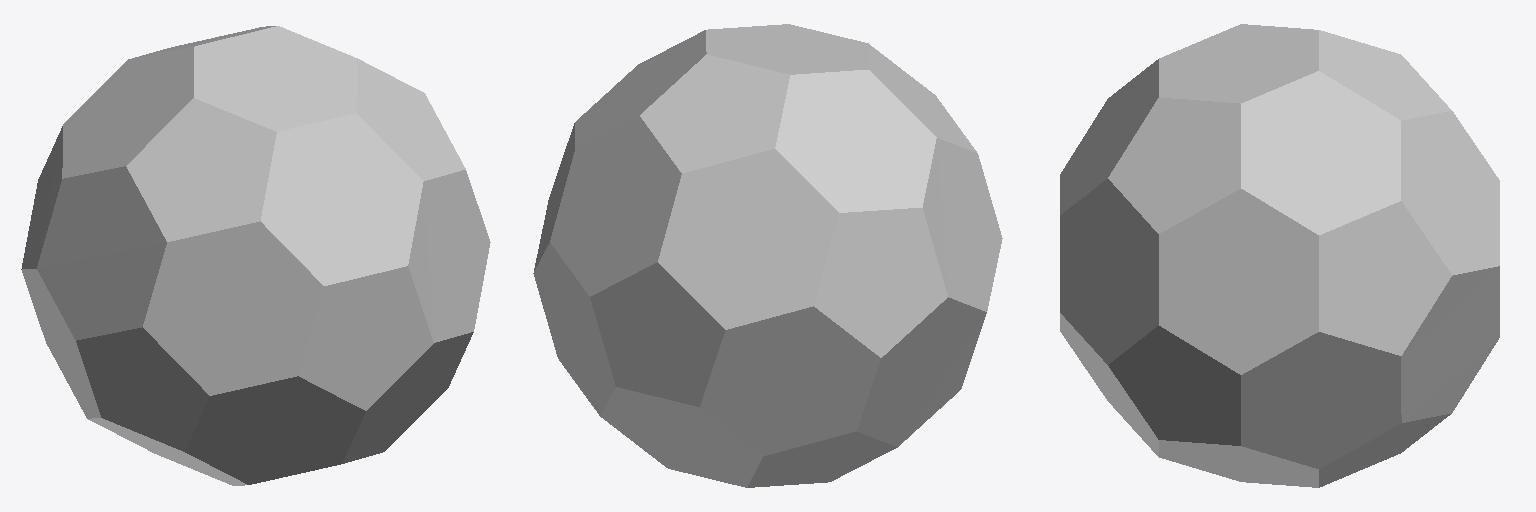
3 views of the same model, side by side, from view 1: azimuth 30°, elevation 25°; view 2: azimuth 150°, elevation 25°; view 3: azimuth 270°, elevation 25° (orthographic).
Parts seen in each view (by area): view 1: Platonic; view 2: Platonic; view 3: Platonic.
Boxes of the visible parts, box(x1,y1,x2,y2) form: Platonic: box(21, 26, 490, 485); Platonic: box(533, 24, 1002, 487); Platonic: box(1060, 24, 1499, 487).
Size of the model in its own units: 1.93 by 1.89 by 1.84.